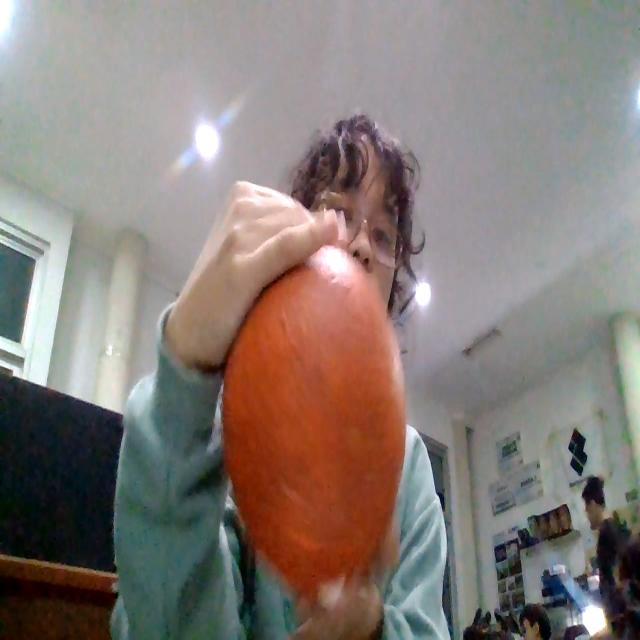ball: (220, 242, 407, 607)
